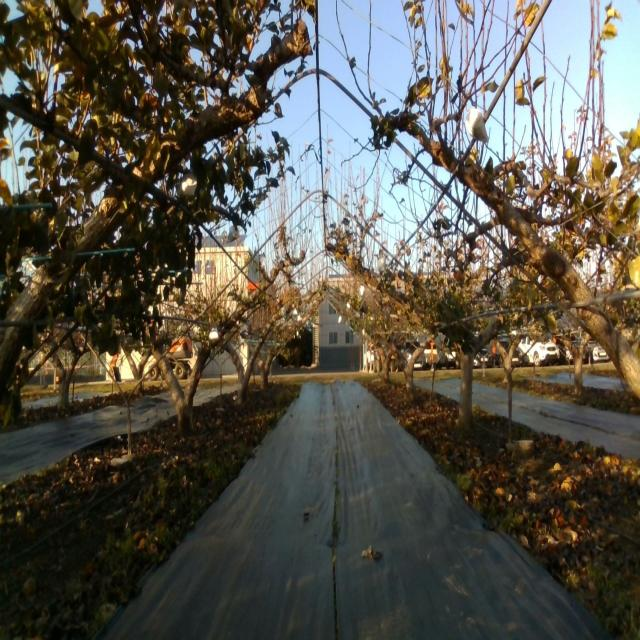pearbags: (465, 108, 489, 143), (176, 168, 198, 200)
